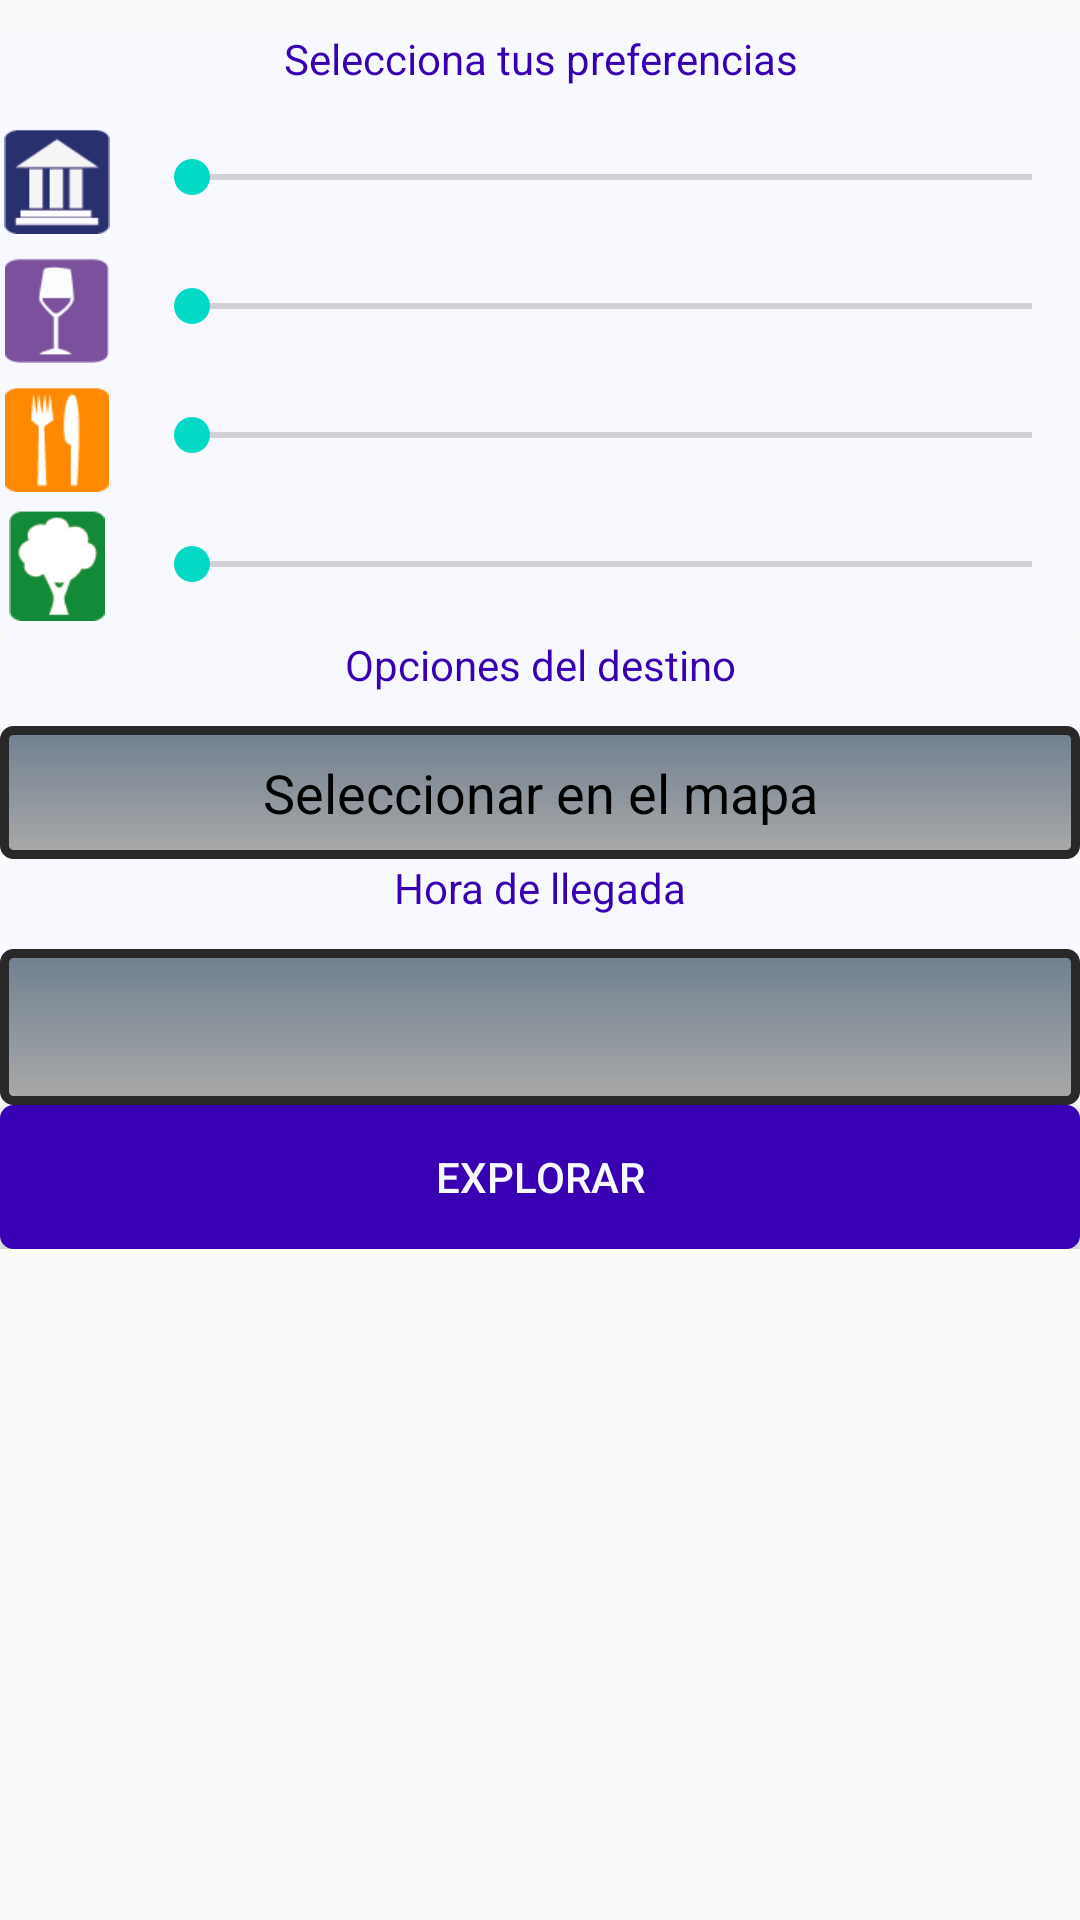

Icons on this 1080px×1920px Android screen, each with its box as bbox=(x1, y1, x2, y2):
culture: bbox=(4, 130, 110, 234)
gastronomy: bbox=(5, 388, 109, 492)
leisure: bbox=(5, 259, 109, 363)
nature: bbox=(9, 511, 105, 621)
